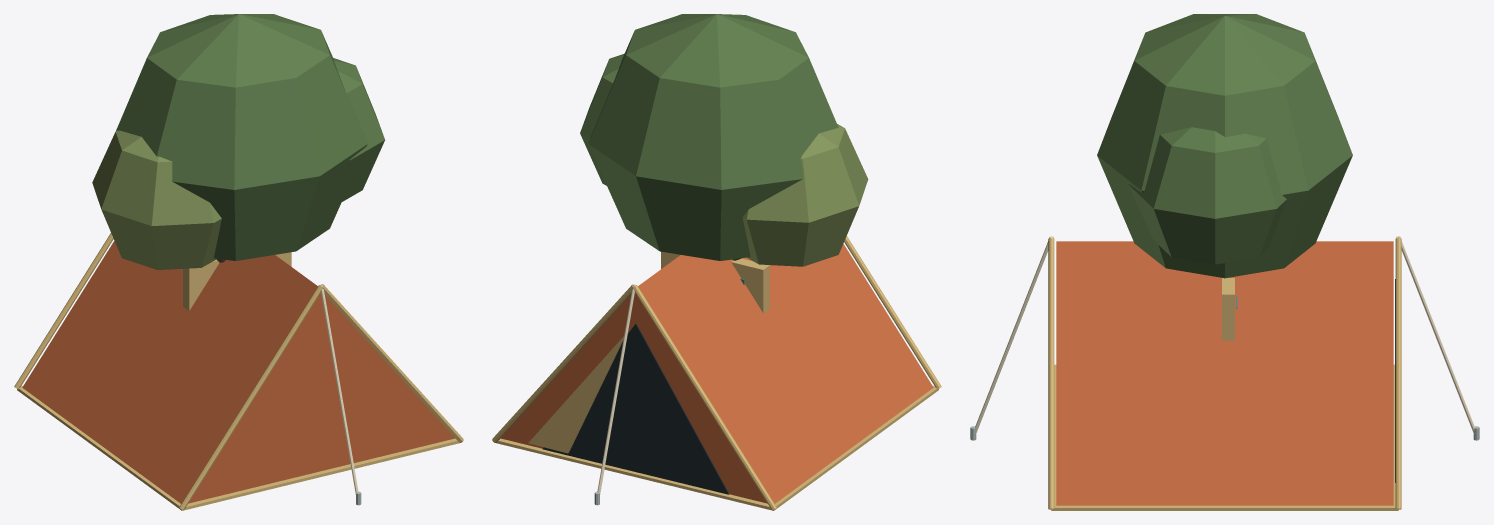
Rendered from field-kit.glb.
The picture shows the model from 3 angles, left to right: view 1: azimuth 30°, elevation 25°; view 2: azimuth 150°, elevation 25°; view 3: azimuth 270°, elevation 25°; orthographic projection. The views are drawn at different scales.
Visible parts, largest first — view 1: Tent, Tree, Sign; view 2: Tent, Tree, Sign; view 3: Tent, Tree, Sign.
Boxes of the visible parts, left/top/right/bottom form: Tent: left=14, top=233, right=463, bottom=510; Tree: left=92, top=14, right=384, bottom=269; Sign: left=183, top=252, right=291, bottom=310; Tent: left=492, top=236, right=941, bottom=510; Tree: left=580, top=14, right=868, bottom=266; Sign: left=661, top=251, right=769, bottom=313; Tent: left=970, top=236, right=1479, bottom=510; Tree: left=1097, top=14, right=1352, bottom=278; Sign: left=1222, top=278, right=1237, bottom=340.
Bounding box in the file's own units: 2.49 × 3.38 × 3.68.
